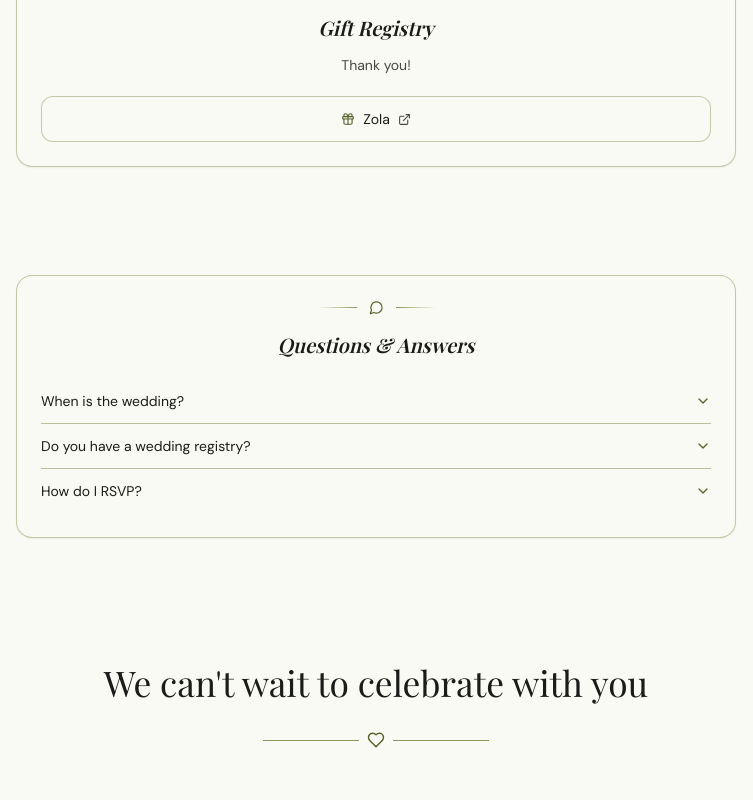
Q&A on the guest RSVP page › answers expand and collapse
(page scrolled)
Click the button "When is the wedding?": (113, 401) [41,378,711,422]
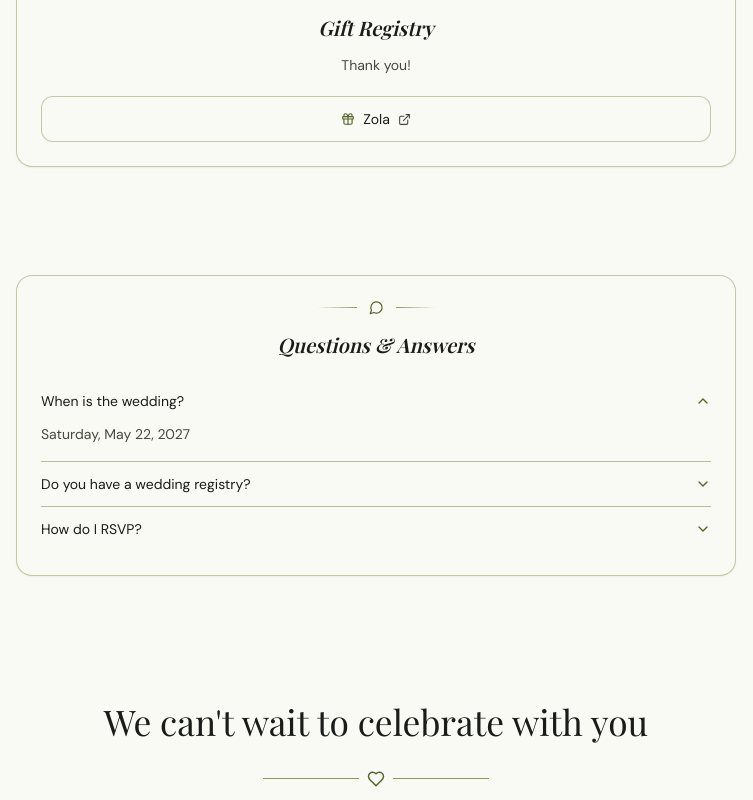
Expected: the button "When is the wedding?" is expanded
Expected: the text "Saturday, May 22, 2027" is shown, [41,424,190,442]
Click the button "When is the wedding?": (113, 401) [41,378,711,422]
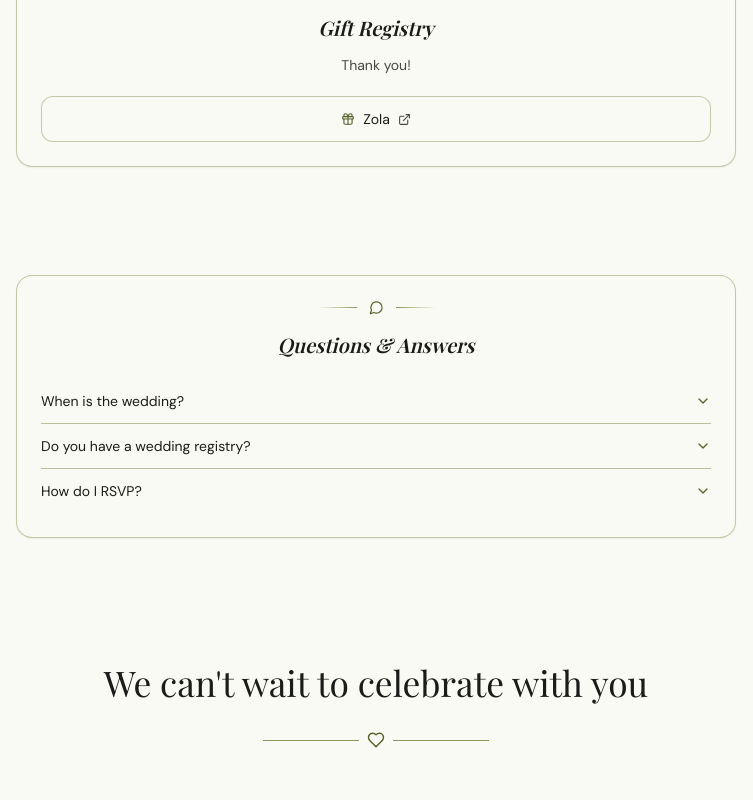
Expected: the button "When is the wedding?" is collapsed, [41,378,711,422]
